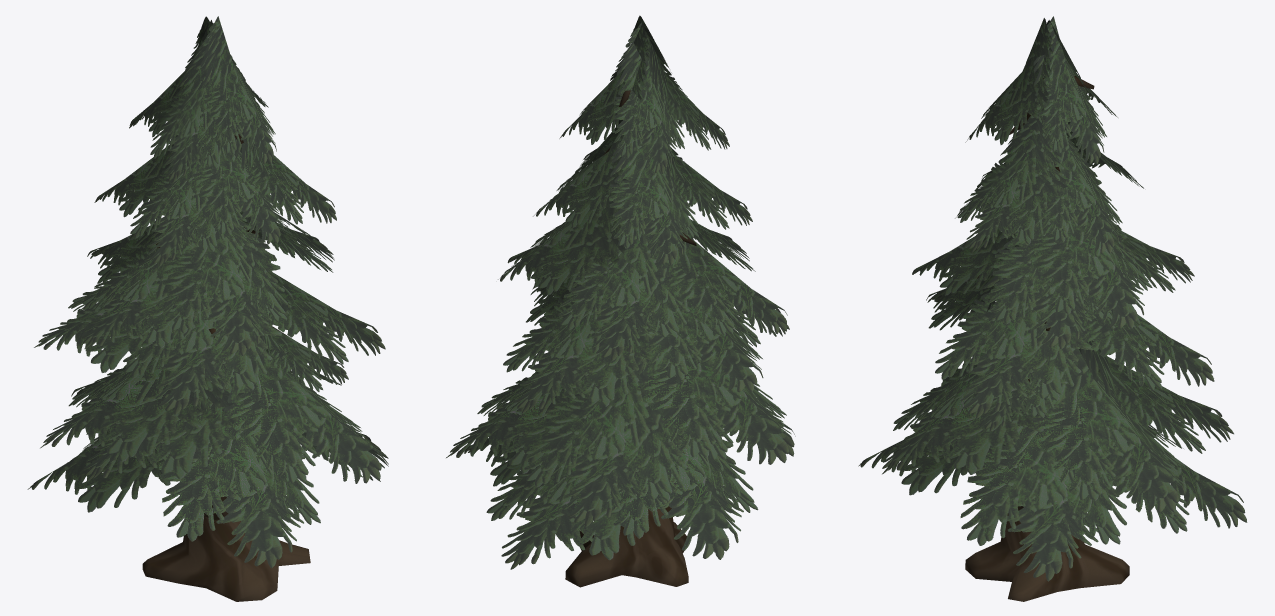
The model's file is tree_pine.fbx.
3 renders of one model, left to right at view 1: azimuth 30°, elevation 25°; view 2: azimuth 150°, elevation 25°; view 3: azimuth 270°, elevation 25°, orthographic.
Parts seen in each view (by area): view 1: pinetree_leaf, pinetree_stump.001; view 2: pinetree_leaf, pinetree_stump.001; view 3: pinetree_leaf, pinetree_stump.001.
Part boxes in pixels (left/top/right/bottom): pinetree_leaf: left=27, top=16, right=388, bottom=567; pinetree_stump.001: left=142, top=516, right=310, bottom=601; pinetree_leaf: left=446, top=15, right=795, bottom=569; pinetree_stump.001: left=565, top=506, right=688, bottom=587; pinetree_leaf: left=858, top=16, right=1247, bottom=581; pinetree_stump.001: left=965, top=513, right=1129, bottom=601.
Size of the model in its own units: 493 by 738 by 503.
